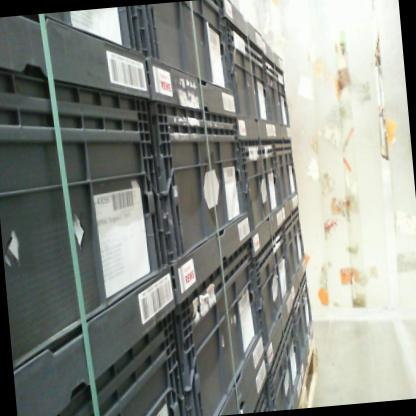pallet: (288, 332, 325, 409)
